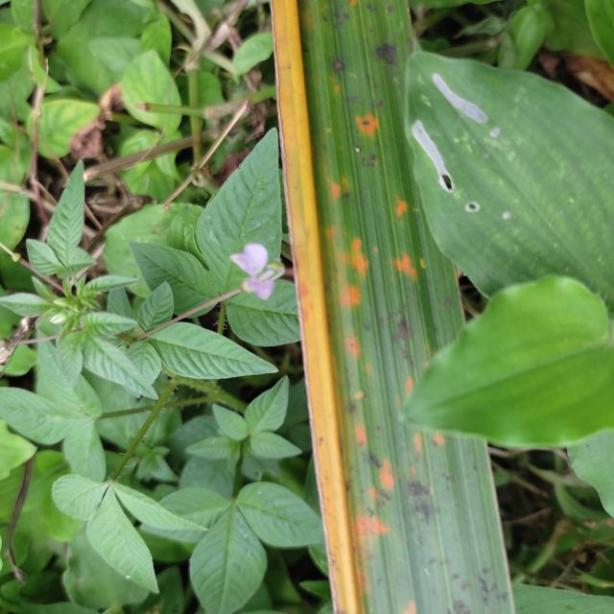Megnesium: (266, 0, 520, 614)
